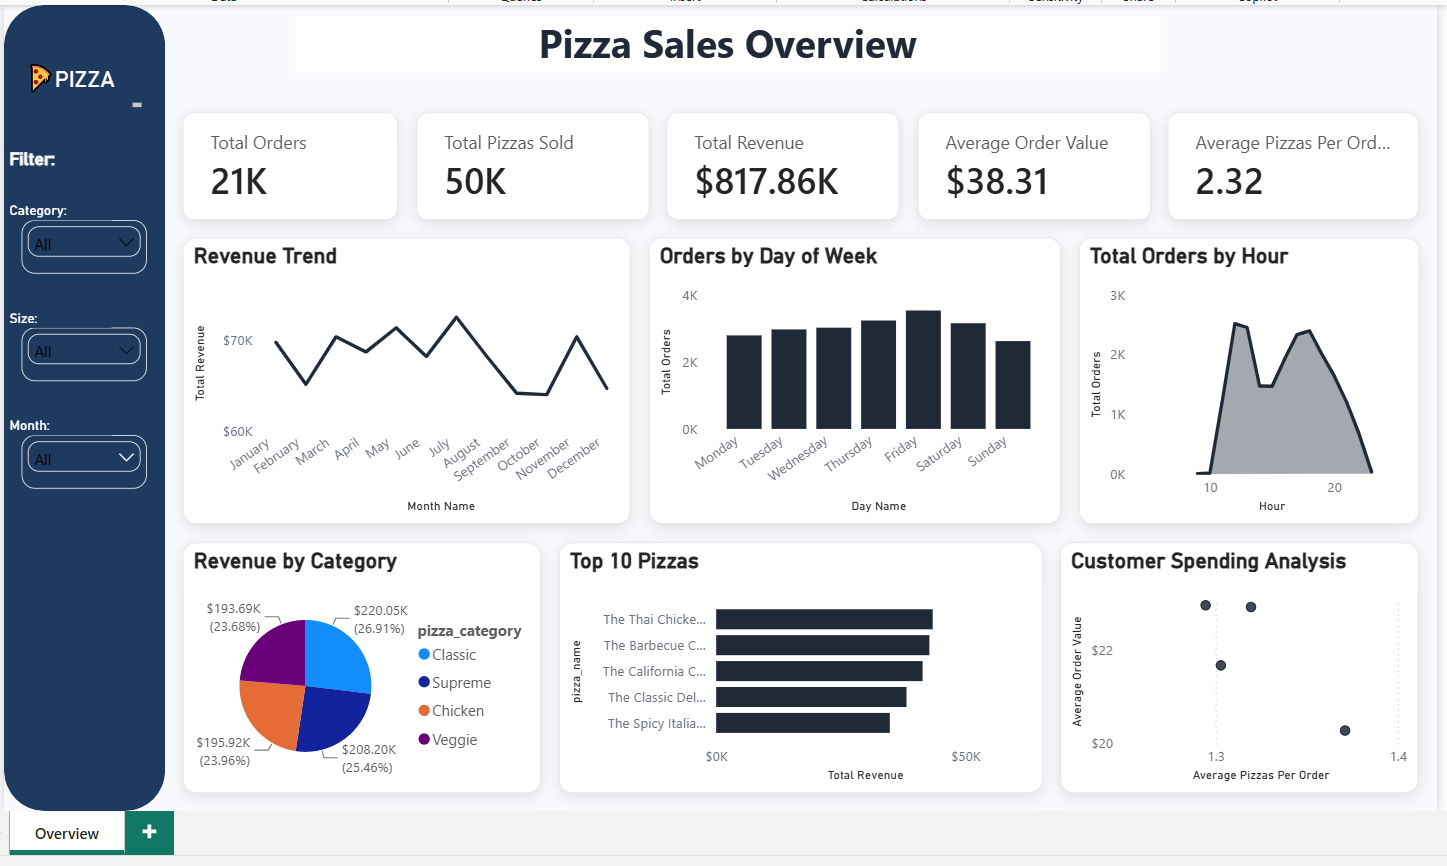

This screenshot's page, from the dashboard's own definition file:
{"tool":"powerbi","page":{"name":"Overview","canvas":[1280,720],"ordinal":0},"visuals":[{"type":"clusteredColumnChart","title":"Orders by Day of Week","fields":{"Category":["pizza_sales.Day Name"],"Y":["pizza_sales.Total Orders"]},"box":[576,208,368,256],"z":0},{"type":"pieChart","title":"Revenue by Category","fields":{"Category":["pizza_sales.pizza_category"],"Y":["pizza_sales.Total Revenue"]},"box":[160,480,320,224],"z":1000},{"type":"clusteredBarChart","title":"Top 10 Pizzas ","fields":{"Category":["pizza_sales.pizza_name"],"Y":["pizza_sales.Total Revenue"]},"box":[496,480,432,224],"z":2000},{"type":"textbox","title":"Pizza Sales Overview","box":[260.7,9.6,772.6,50.8],"z":3000},{"type":"shape","box":[0,0,144,720],"z":4000},{"type":"textbox","title":"🍕PIZZA","box":[16,48,112,48],"z":5000},{"type":"slicer","fields":{"Values":["pizza_sales.Month Name"]},"box":[16,384,112,48],"z":6000},{"type":"cardVisual","fields":{"Data":["pizza_sales.Total Orders"]},"box":[160,96,192,96],"z":7000},{"type":"cardVisual","fields":{"Data":["pizza_sales.Total Pizzas Sold"]},"box":[368,96,208,96],"z":8000},{"type":"cardVisual","fields":{"Data":["pizza_sales.Total Revenue"]},"box":[592,96,208,96],"z":9000},{"type":"cardVisual","fields":{"Data":["pizza_sales.Average Order Value"]},"box":[816,96,208,96],"z":10000},{"type":"cardVisual","fields":{"Data":["pizza_sales.Average Pizzas Per Order"]},"box":[1040,96,224,96],"z":11000},{"type":"lineChart","title":"Revenue Trend","fields":{"Category":["pizza_sales.Month Name"],"Y":["pizza_sales.Total Revenue"]},"box":[160,208,400,256],"z":12000},{"type":"slicer","fields":{"Values":["pizza_sales.pizza_category"]},"box":[16,192,112,48],"z":13000},{"type":"slicer","fields":{"Values":["pizza_sales.pizza_size"]},"box":[16,288,112,48],"z":14000},{"type":"areaChart","fields":{"Category":["pizza_sales.Hour"],"Y":["pizza_sales.Total Orders"]},"box":[960,208,304,256],"z":15000},{"type":"scatterChart","title":"Customer Spending Analysis","fields":{"X":["pizza_sales.Average Pizzas Per Order"],"Y":["pizza_sales.Average Order Value"],"Category":["pizza_sales.pizza_category"]},"box":[944,480,320,224],"z":16000},{"type":"textbox","title":"Filter:","box":[0,128,96,32],"z":17000},{"type":"textbox","title":"Category:","box":[0,176,96,16],"z":18000},{"type":"textbox","title":"Size:","box":[0,272,96,16],"z":19000},{"type":"textbox","title":"Month:","box":[0,368,96,16],"z":20000}]}

Visuals, with their boxes on the page's 1280x720 design canvas (x1, y1, x2, y2). These are canvas units, not pixel positions in the 1447x866 screenshot, which may show the page scaled, cropped or inside an application window:
"Orders by Day of Week" clusteredColumnChart: pyautogui.locateOnScreen(576, 208, 944, 464)
"Revenue by Category" pieChart: pyautogui.locateOnScreen(160, 480, 480, 704)
"Top 10 Pizzas " clusteredBarChart: pyautogui.locateOnScreen(496, 480, 928, 704)
"Pizza Sales Overview" textbox: pyautogui.locateOnScreen(261, 10, 1033, 60)
shape: pyautogui.locateOnScreen(0, 0, 144, 720)
"🍕PIZZA" textbox: pyautogui.locateOnScreen(16, 48, 128, 96)
slicer - pizza_sales.Month Name: pyautogui.locateOnScreen(16, 384, 128, 432)
cardVisual - pizza_sales.Total Orders: pyautogui.locateOnScreen(160, 96, 352, 192)
cardVisual - pizza_sales.Total Pizzas Sold: pyautogui.locateOnScreen(368, 96, 576, 192)
cardVisual - pizza_sales.Total Revenue: pyautogui.locateOnScreen(592, 96, 800, 192)
cardVisual - pizza_sales.Average Order Value: pyautogui.locateOnScreen(816, 96, 1024, 192)
cardVisual - pizza_sales.Average Pizzas Per Order: pyautogui.locateOnScreen(1040, 96, 1264, 192)
"Revenue Trend" lineChart: pyautogui.locateOnScreen(160, 208, 560, 464)
slicer - pizza_sales.pizza_category: pyautogui.locateOnScreen(16, 192, 128, 240)
slicer - pizza_sales.pizza_size: pyautogui.locateOnScreen(16, 288, 128, 336)
areaChart - pizza_sales.Hour x pizza_sales.Total Orders: pyautogui.locateOnScreen(960, 208, 1264, 464)
"Customer Spending Analysis" scatterChart: pyautogui.locateOnScreen(944, 480, 1264, 704)
"Filter:" textbox: pyautogui.locateOnScreen(0, 128, 96, 160)
"Category:" textbox: pyautogui.locateOnScreen(0, 176, 96, 192)
"Size:" textbox: pyautogui.locateOnScreen(0, 272, 96, 288)
"Month:" textbox: pyautogui.locateOnScreen(0, 368, 96, 384)
